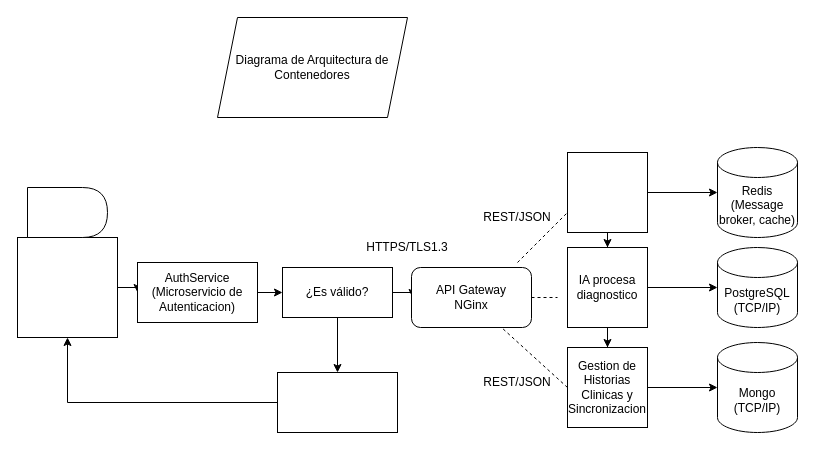
Image size: 815x450. Some labels were removed from this diagram. Each missing label, with the centre of its shape:
"Athenea App" goes at point 67,287.
"Base de Datos Local SQLite" goes at point 67,212.
"IA recibe voz o texto" goes at point 607,192.
"No es (Token invalido)" goes at point 337,402.
